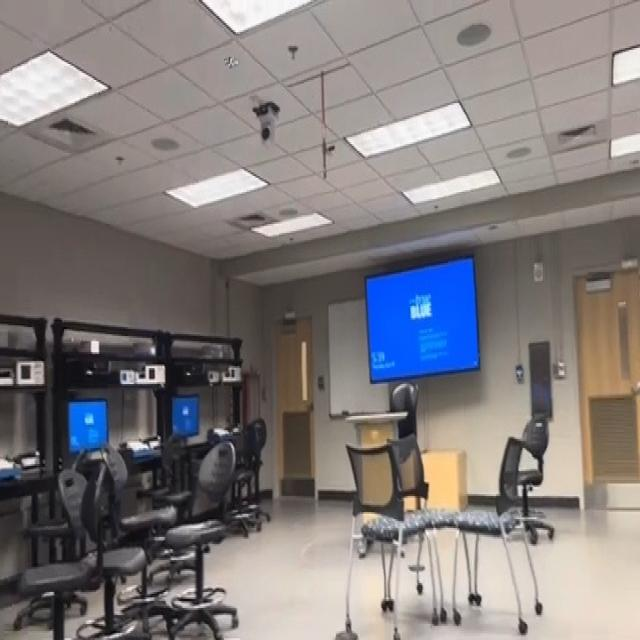drone: (214, 48, 246, 82)
